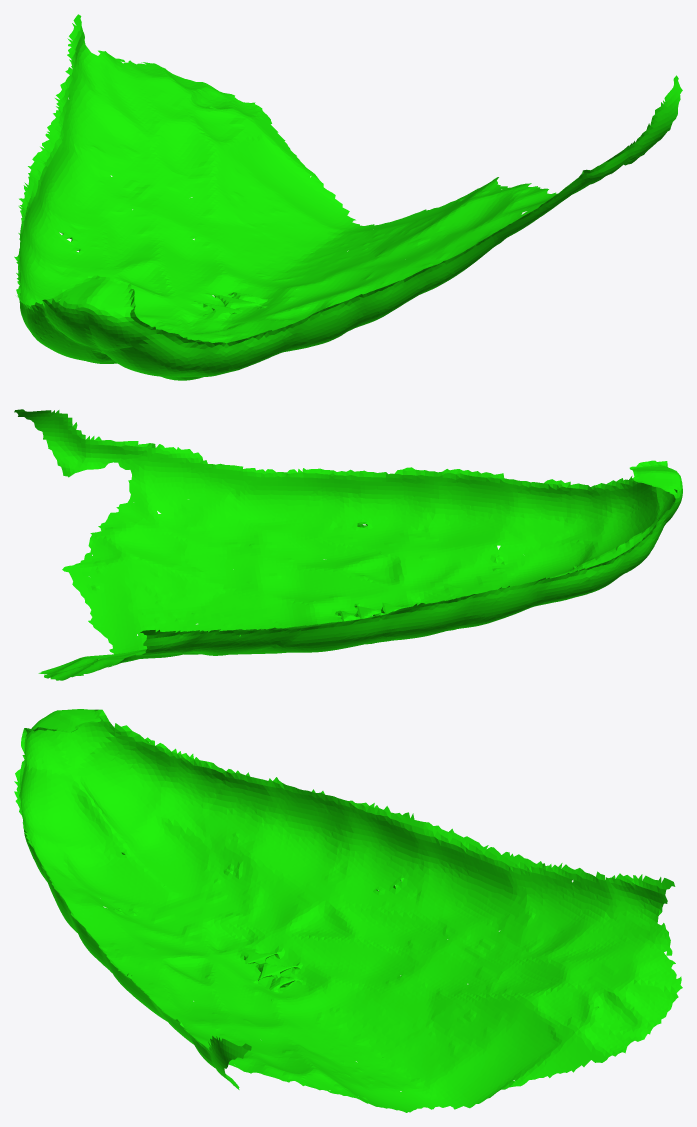
Rendered from zone2-serpent-green.gltf.
3 views of the same model, one above another, from view 1: azimuth 30°, elevation 25°; view 2: azimuth 150°, elevation 25°; view 3: azimuth 270°, elevation 25° (orthographic). The views are drawn at different scales.
Visible parts, largest first — view 1: imagetostl_mesh; view 2: imagetostl_mesh; view 3: imagetostl_mesh.
Boxes of the visible parts, x1,y1,x2,y2 form: imagetostl_mesh: [14, 14, 682, 380]; imagetostl_mesh: [14, 409, 682, 680]; imagetostl_mesh: [14, 709, 682, 1112].
Size of the model in its own units: 13.55 by 3.47 by 11.58.
